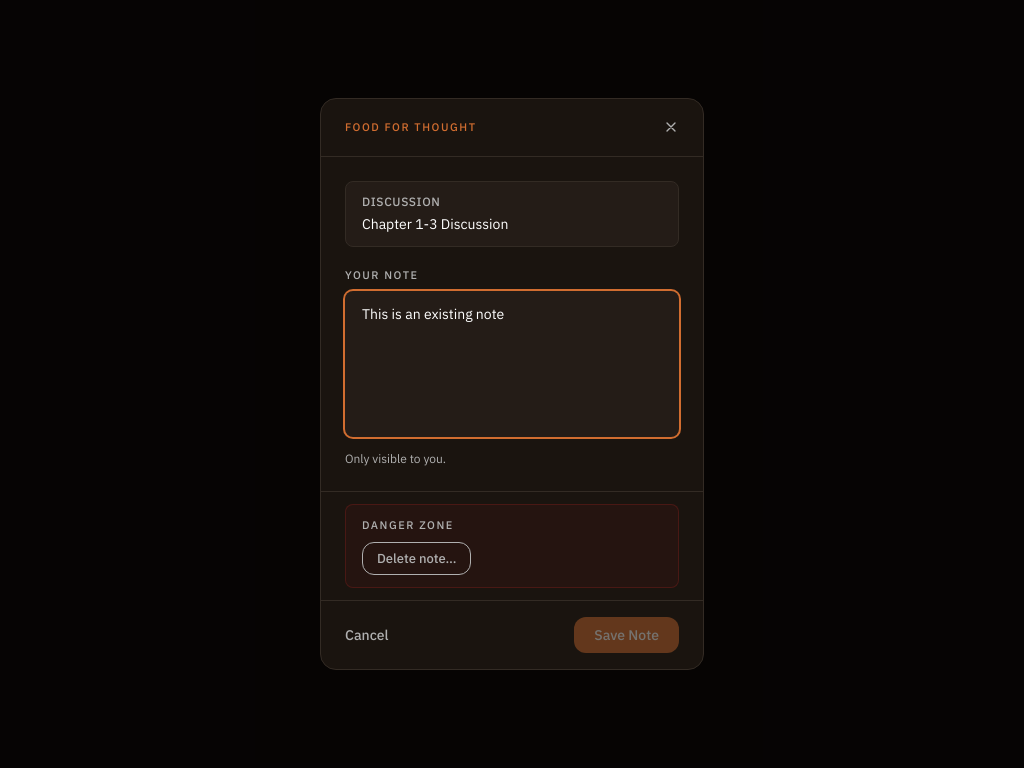
Test: DiscussionNoteModal › Edit Note mode (existing note) › should enable Save when content changes
Step 1. Type " updated" into the text box → [512, 364], box [345,291,679,437]
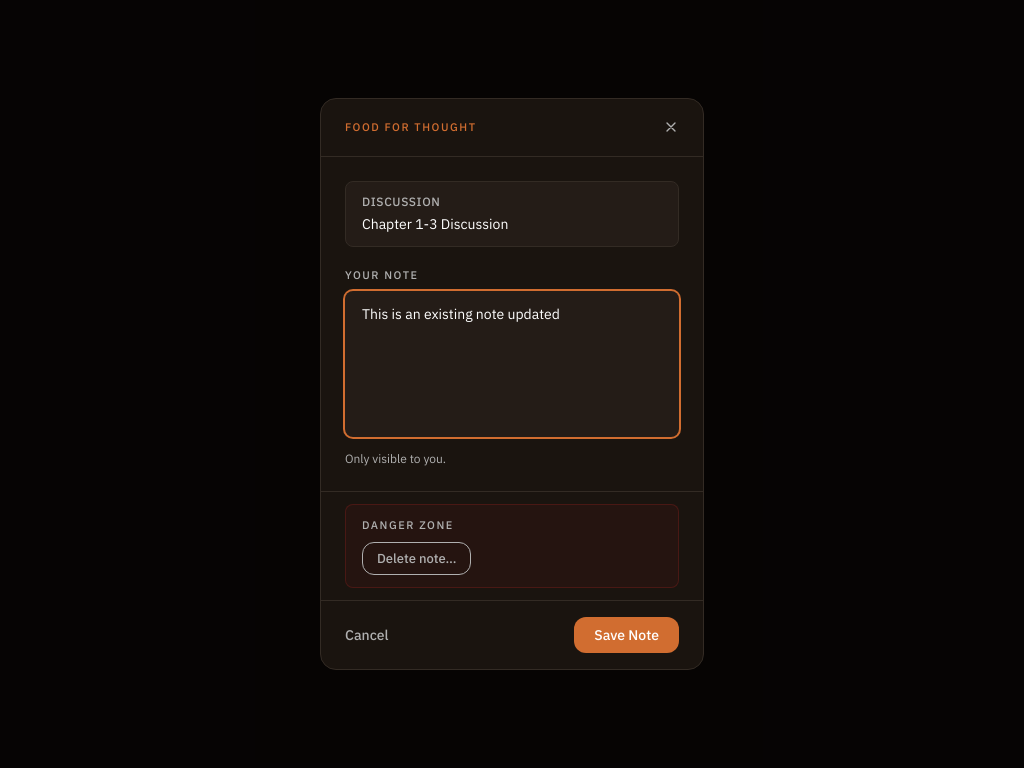
Result: the button "Save Note" is enabled at [574,617,679,653]
